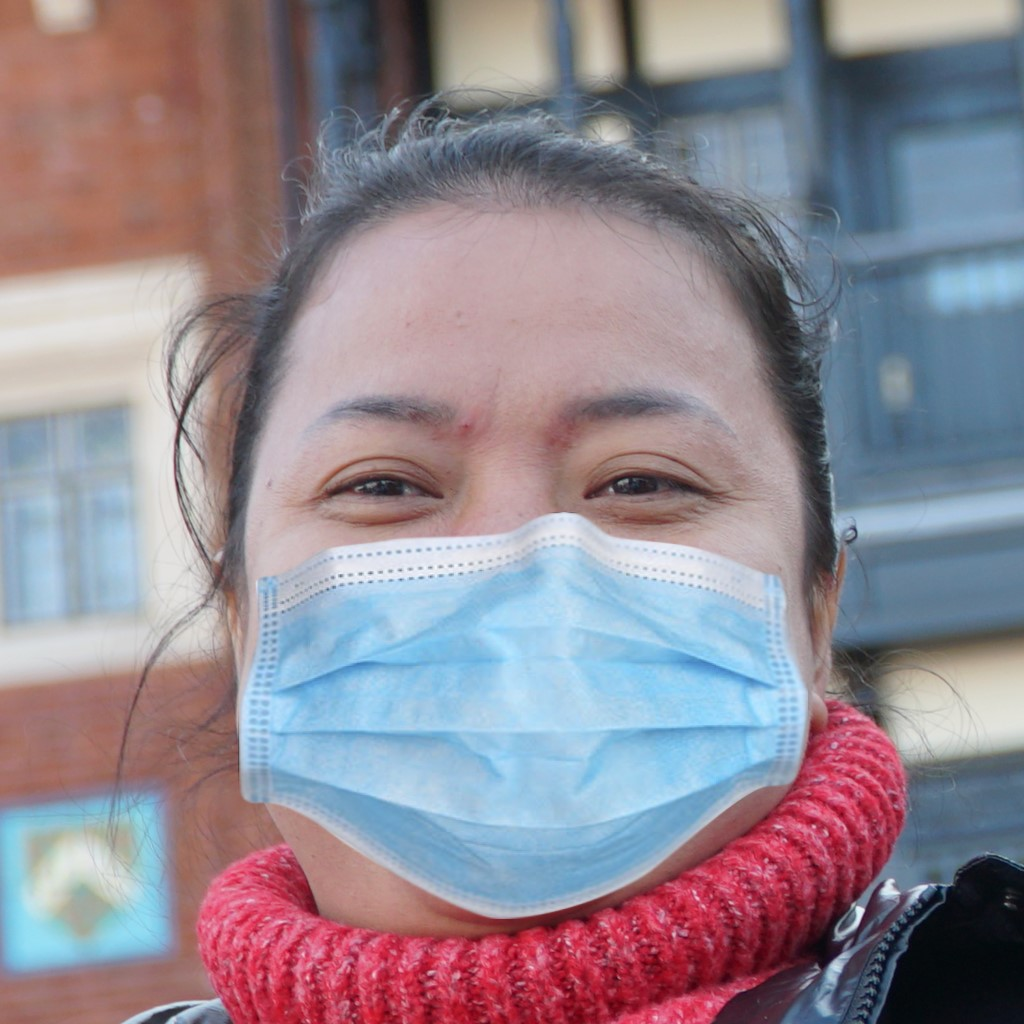con_mascara: (247, 167, 817, 918)
